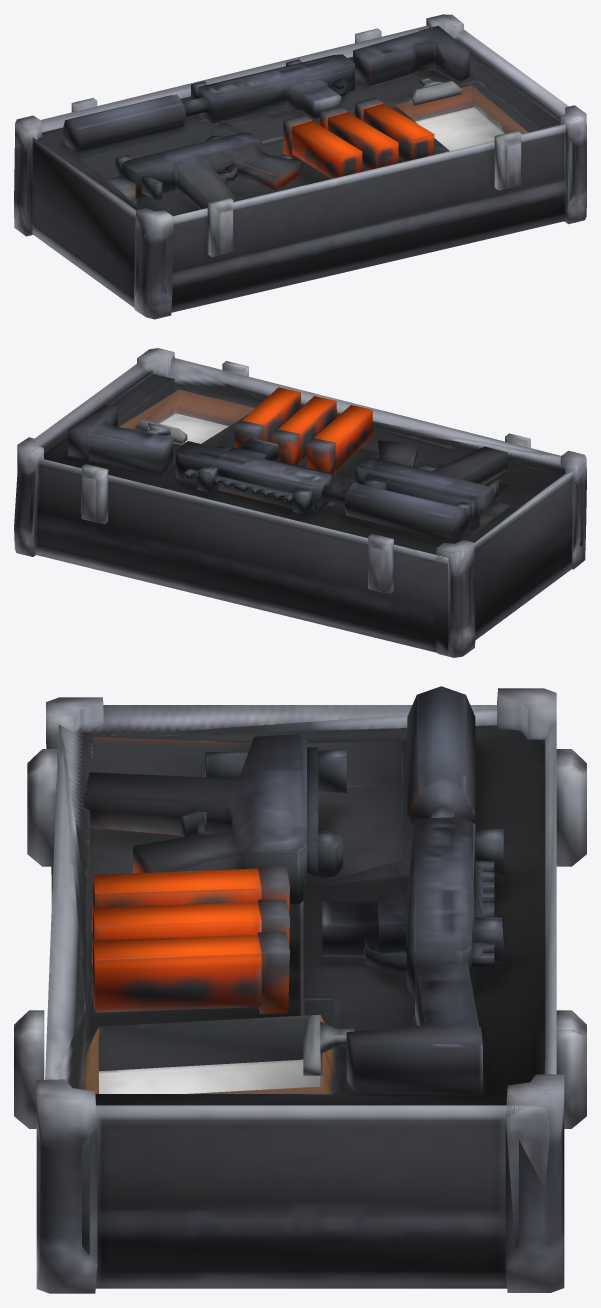
Rendered from case_open.glb.
3 views of the same model, one above another, from view 1: azimuth 30°, elevation 25°; view 2: azimuth 150°, elevation 25°; view 3: azimuth 270°, elevation 25° (orthographic). The views are drawn at different scales.
Visible parts, largest first — view 1: tripo_node_8ff788b6-971d-4700-84dc-2173a4aab7a9; view 2: tripo_node_8ff788b6-971d-4700-84dc-2173a4aab7a9; view 3: tripo_node_8ff788b6-971d-4700-84dc-2173a4aab7a9.
Part boxes in pixels (x1=…): tripo_node_8ff788b6-971d-4700-84dc-2173a4aab7a9: x1=14, y1=14, x2=586, y2=319; tripo_node_8ff788b6-971d-4700-84dc-2173a4aab7a9: x1=14, y1=348, x2=586, y2=657; tripo_node_8ff788b6-971d-4700-84dc-2173a4aab7a9: x1=14, y1=686, x2=586, y2=1293.
Size of the model in its own units: 0.998 by 0.2598 by 0.5918.
Materials: 1 (1 with a texture image).
